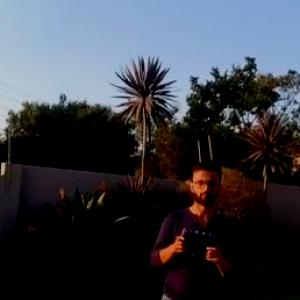follow: (140, 148, 252, 299)
